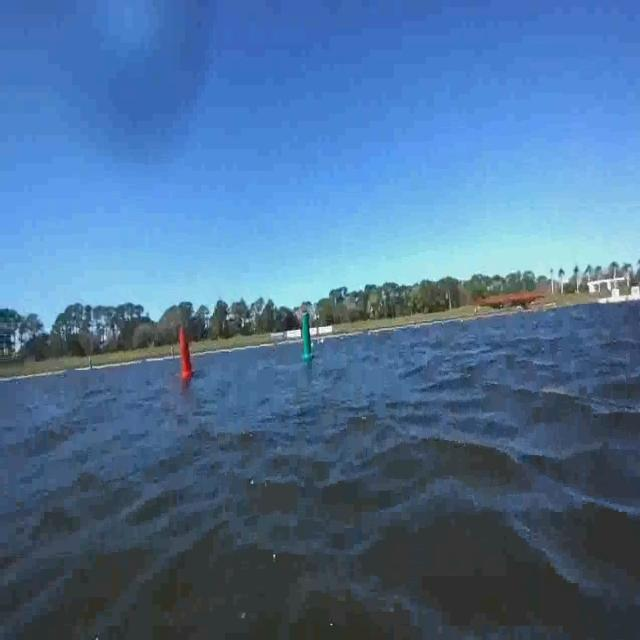green-column-buoy: (299, 314, 314, 362)
red-column-buoy: (178, 327, 194, 379)
